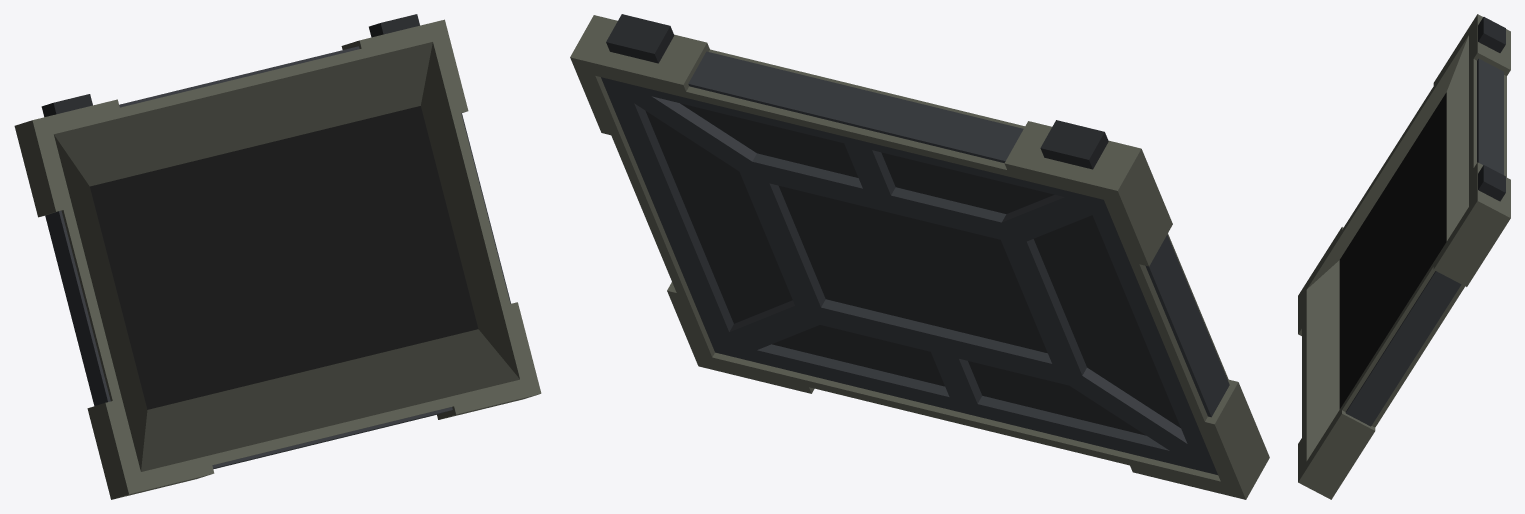
Rendered from SM_Item_Laptop_Lid_01.fbx.
The picture shows the model from 3 angles, left to right: view 1: azimuth 30°, elevation 25°; view 2: azimuth 150°, elevation 25°; view 3: azimuth 270°, elevation 25°; orthographic projection. The views are drawn at different scales.
Parts seen in each view (by area): view 1: SM_Item_Laptop_Lid_01; view 2: SM_Item_Laptop_Lid_01; view 3: SM_Item_Laptop_Lid_01.
Part boxes in pixels (x1,y1,x2,y2): SM_Item_Laptop_Lid_01: (14, 14, 541, 499); SM_Item_Laptop_Lid_01: (570, 14, 1269, 499); SM_Item_Laptop_Lid_01: (1298, 14, 1510, 499).
Bounding box in the file's own units: 51.4 × 39.46 × 24.74.
